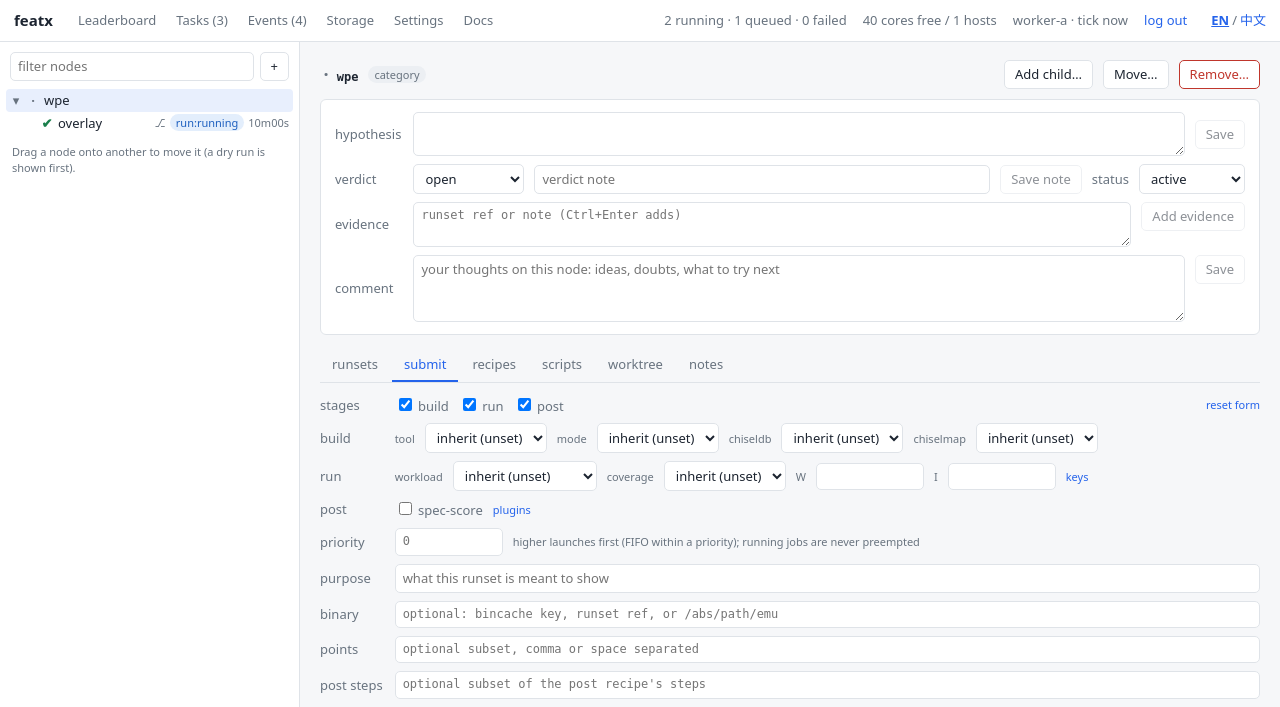
App › turns the submit presets into overrides and the CLI line
Select "exec" in the dropdown named "TRACERTL_MODE; the run follows the build" at (658, 438), box [597, 424, 719, 454]
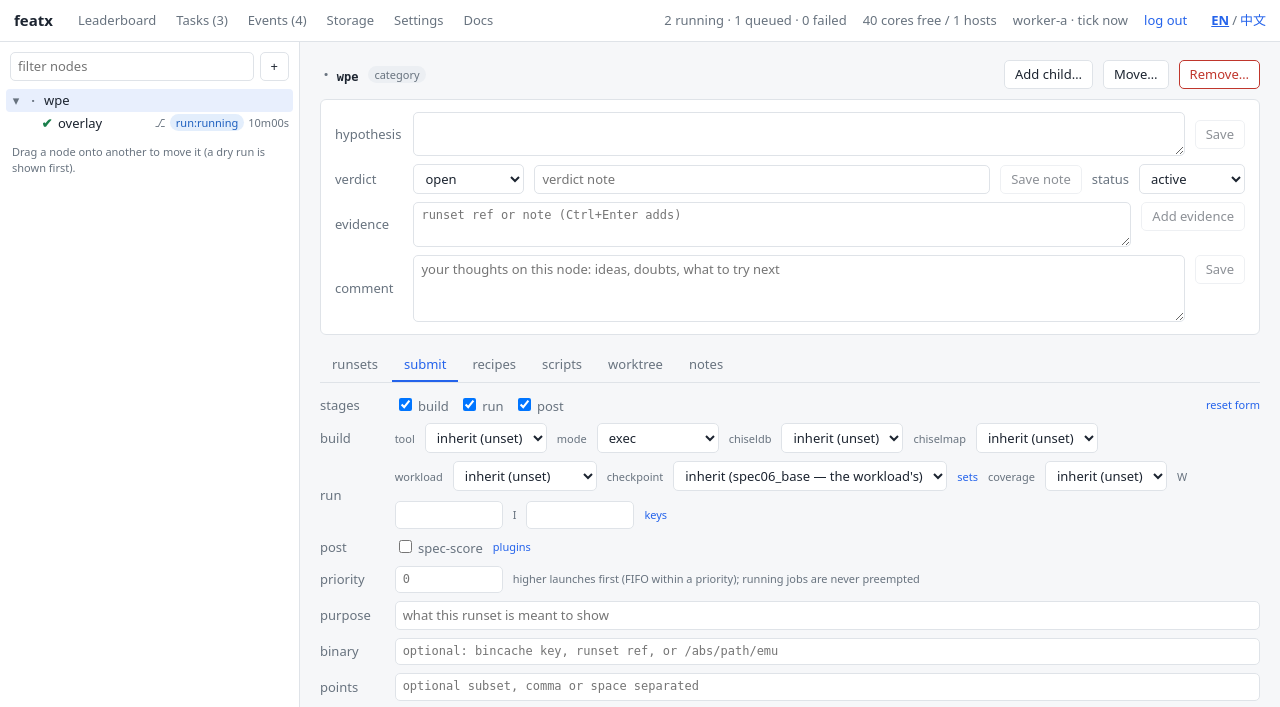
Select "spec17 — SPEC17" in the dropdown named "all its points unless points / benchmarks narrow them" at (525, 476), box [453, 462, 597, 492]
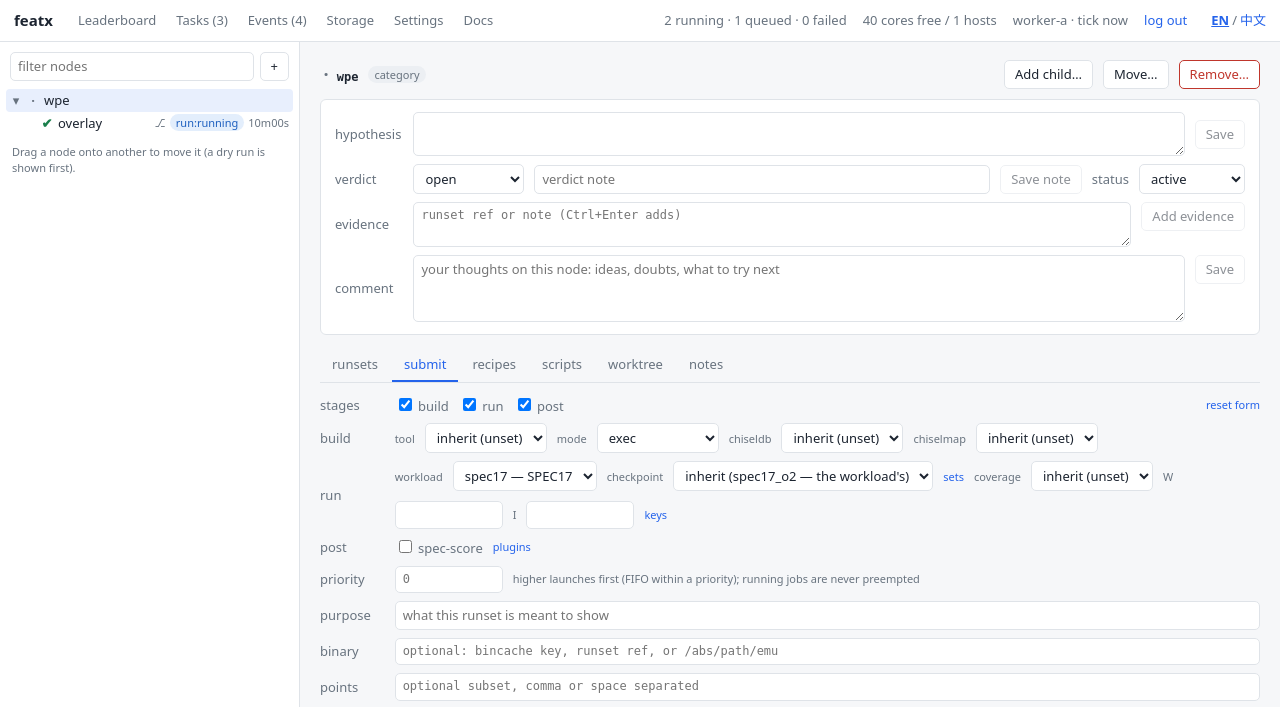
Expected: the dropdown does not show "spec06_base"
Select "spec17_new (1783 points)" in the dropdown named "exec runs: the SimPoint checkpoint set (run.checkpoint); spe" at (803, 476), box [673, 462, 933, 492]
(page scrolled)
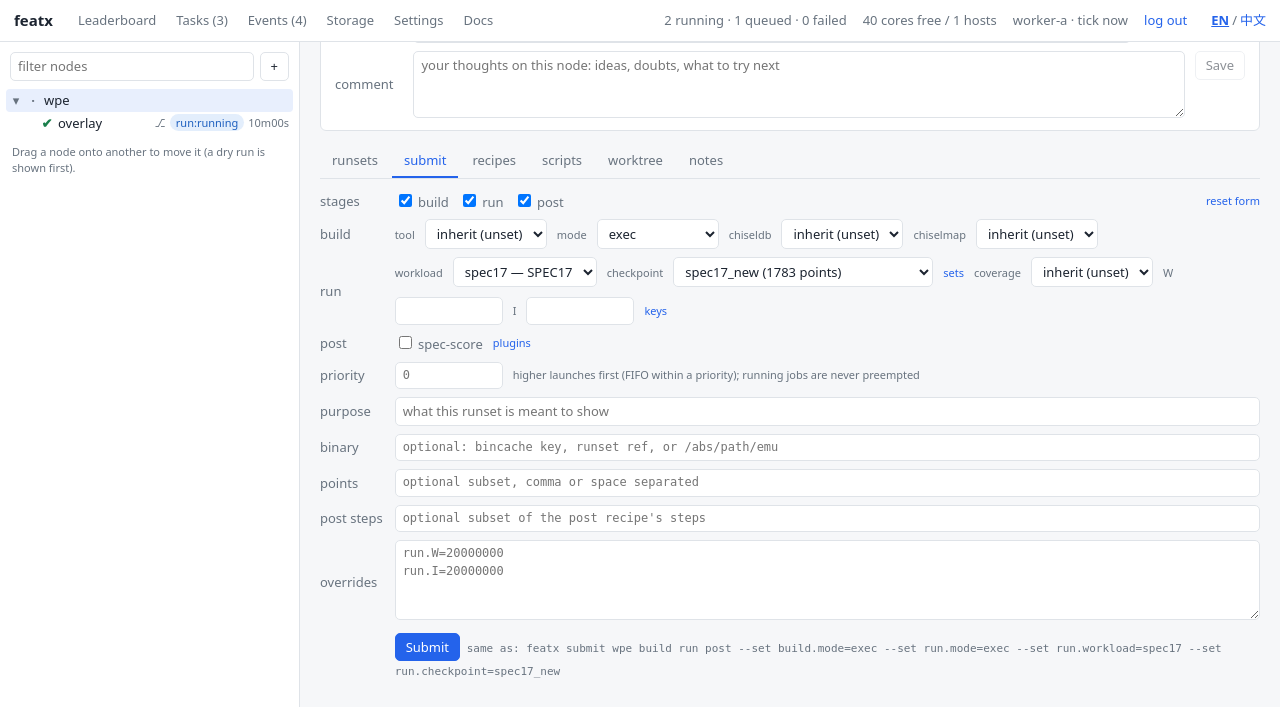
Result: the text "--set run.checkpoint=spec17_new" is shown at [395, 642, 1222, 678]
